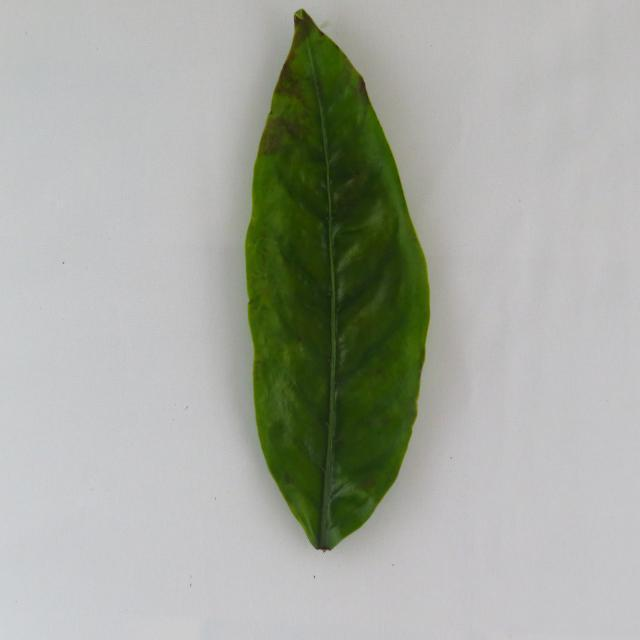DeficienciaNutricional-Magnesio: (245, 10, 430, 550)
